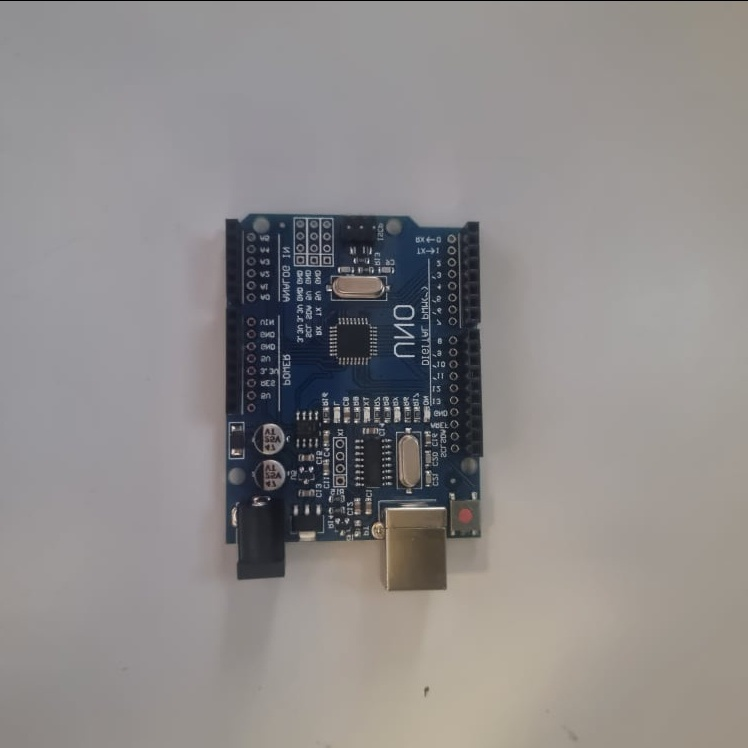UNO R3: (221, 208, 486, 590)
